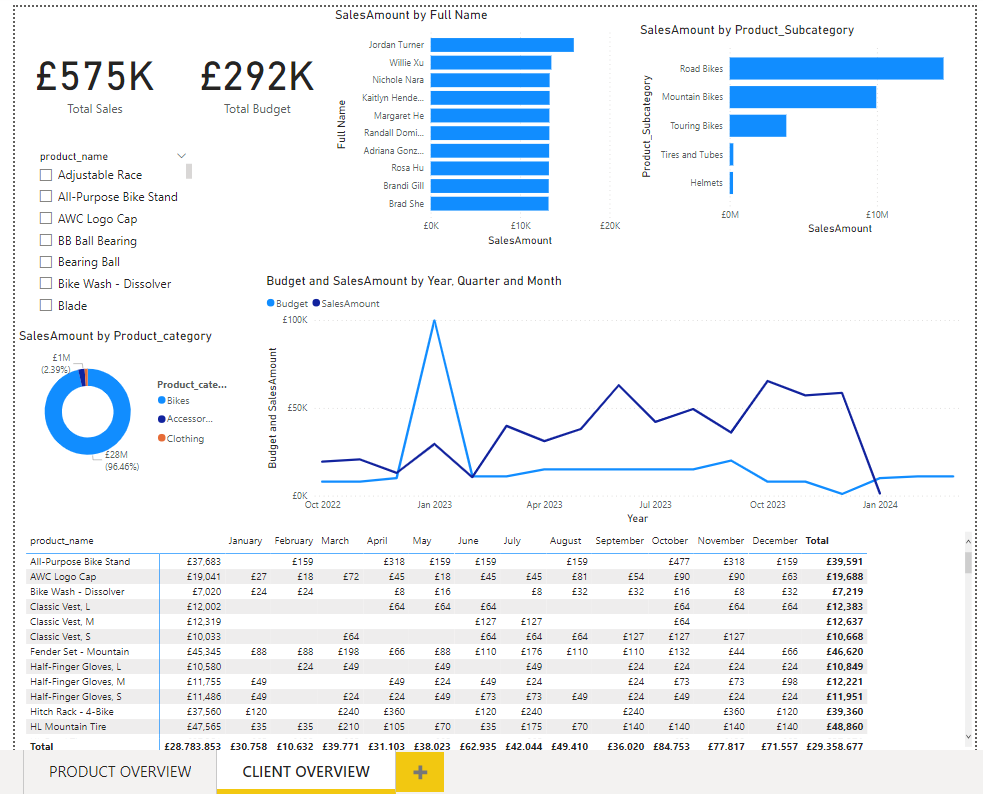

Layout of this report page (visuals, bound fields, positions):
{"tool":"powerbi","page":{"name":"CLIENT OVERVIEW","canvas":[1280,1000],"ordinal":2},"visuals":[{"type":"card","fields":{"Values":["Internet Sales.SalesAmount"]},"box":[9.4,31.9,193.5,129],"z":0},{"type":"card","fields":{"Values":["Budget.Budget"]},"box":[224.6,31.9,196.4,129],"z":1000},{"type":"donutChart","fields":{"Category":["Product Catergory.Product_category"],"Y":["Internet Sales.SalesAmount"]},"box":[0,428.8,291.2,203.8],"z":2000},{"type":"clusteredBarChart","fields":{"Category":["Product Subcategory.Product_Subcategory"],"Y":["Internet Sales.SalesAmount"]},"box":[829,19.4,440.3,288.7],"z":3000},{"type":"lineChart","fields":{"Y":["Budget.Budget","Internet Sales.SalesAmount"],"Category":["Budget.Date.Variation.Date Hierarchy.Year","Budget.Date.Variation.Date Hierarchy.Quarter","Budget.Date.Variation.Date Hierarchy.Month","Budget.Date.Variation.Date Hierarchy.Day"]},"box":[330.6,354.8,950,340.3],"z":5000},{"type":"slicer","fields":{"Values":["Product Table.product_name"]},"box":[20.3,184.8,221,235.5],"z":6000},{"type":"pivotTable","fields":{"Rows":["Product Table.product_name"],"Columns":["Budget.Date.Variation.Date Hierarchy.Month","Budget.Date.Variation.Date Hierarchy.Day"],"Values":["Internet Sales.SalesAmount"]},"box":[9.7,695.2,1271,304.8],"z":7000},{"type":"clusteredBarChart","fields":{"Category":["Customer Table.Full Name"],"Y":["Internet Sales.SalesAmount"]},"box":[421,0,390.3,324.2],"z":8000}]}

Visuals, with their boxes on the page's 1280x1000 design canvas (x1, y1, x2, y2). These are canvas units, not pixel positions in the 983x794 screenshot, which may show the page scaled, cropped or inside an application window:
card - Internet Sales.SalesAmount: 9/32/203/161
card - Budget.Budget: 225/32/421/161
donutChart - Product Catergory.Product_category x Internet Sales.SalesAmount: 0/429/291/633
clusteredBarChart - Product Subcategory.Product_Subcategory x Internet Sales.SalesAmount: 829/19/1269/308
lineChart - Budget.Budget x Internet Sales.SalesAmount: 331/355/1281/695
slicer - Product Table.product_name: 20/185/241/420
pivotTable - Product Table.product_name x Budget.Date.Variation.Date Hierarchy.Month: 10/695/1281/1000
clusteredBarChart - Customer Table.Full Name x Internet Sales.SalesAmount: 421/0/811/324
